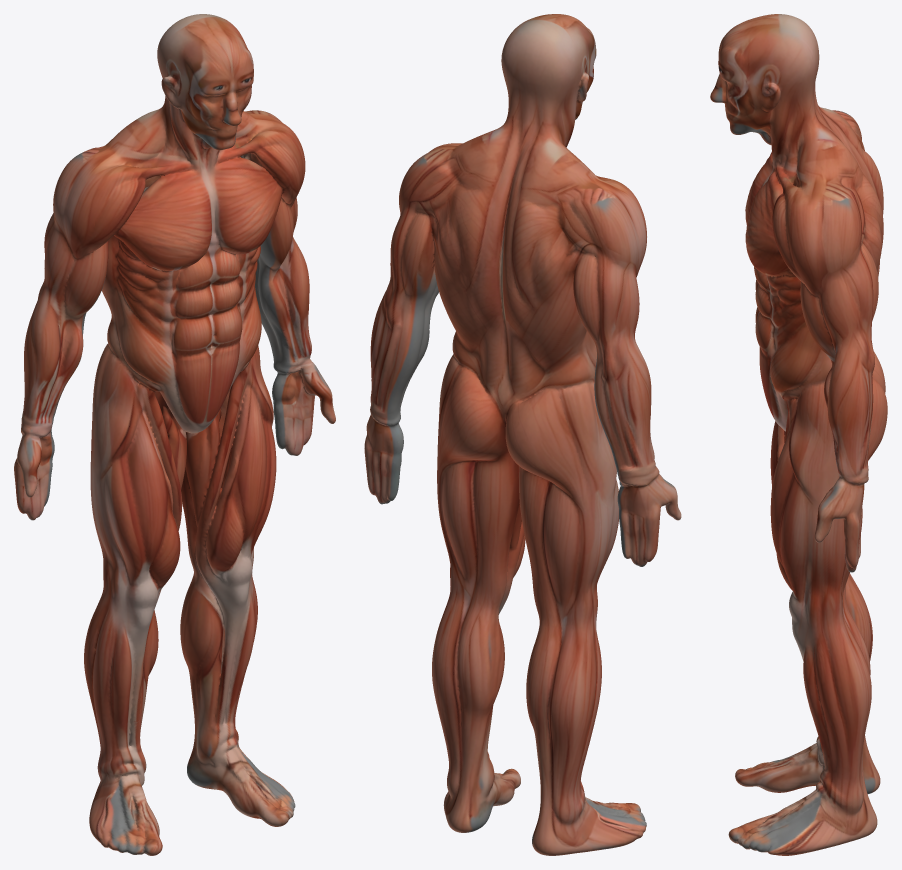
File: human_anatomy.glb
3 views of the same model, side by side, from view 1: azimuth 30°, elevation 25°; view 2: azimuth 150°, elevation 25°; view 3: azimuth 270°, elevation 25° (orthographic).
Visible parts, largest first — view 1: tripo_node_dbafce86-6c67-4b70-8f6e-ea0efc8b7fa9; view 2: tripo_node_dbafce86-6c67-4b70-8f6e-ea0efc8b7fa9; view 3: tripo_node_dbafce86-6c67-4b70-8f6e-ea0efc8b7fa9.
Part boxes in pixels (x1,y1,x2,y2): tripo_node_dbafce86-6c67-4b70-8f6e-ea0efc8b7fa9: (14, 14, 335, 855); tripo_node_dbafce86-6c67-4b70-8f6e-ea0efc8b7fa9: (364, 14, 681, 855); tripo_node_dbafce86-6c67-4b70-8f6e-ea0efc8b7fa9: (710, 14, 887, 855).
Bounding box in the file's own units: 0.3993 × 1 × 0.2004.
1 material, 1 textured.
